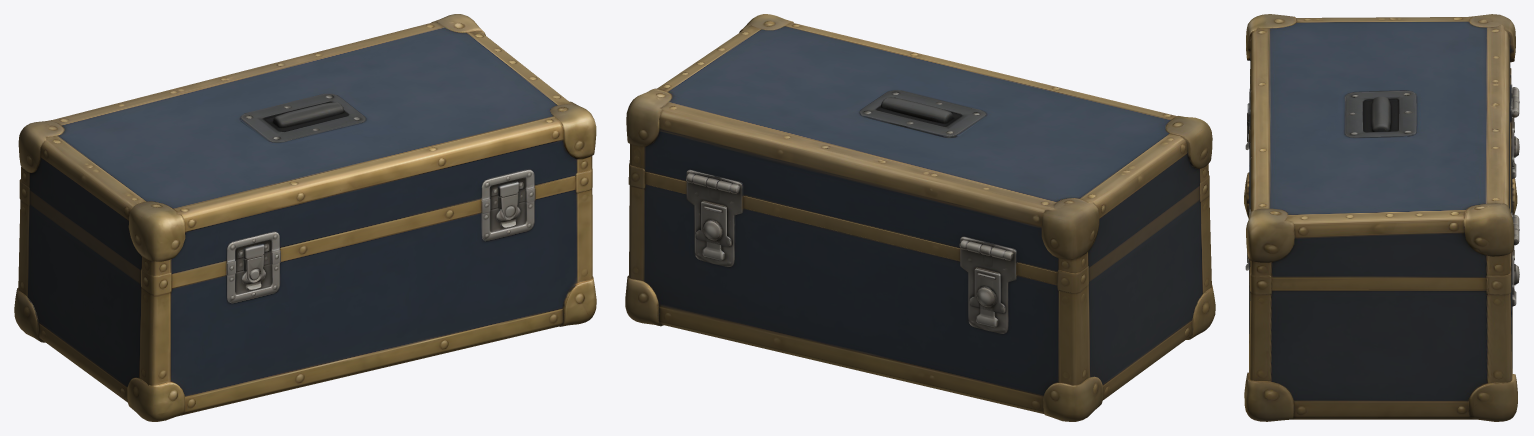
The model's file is flight-case.glb.
The picture shows the model from 3 angles, left to right: view 1: azimuth 30°, elevation 25°; view 2: azimuth 150°, elevation 25°; view 3: azimuth 270°, elevation 25°; orthographic projection. The views are drawn at different scales.
Visible parts, largest first — view 1: Backstage_Case; view 2: Backstage_Case; view 3: Backstage_Case.
Boxes of the visible parts, x1=… form: Backstage_Case: x1=14, y1=14, x2=596, y2=421; Backstage_Case: x1=625, y1=14, x2=1215, y2=421; Backstage_Case: x1=1244, y1=14, x2=1519, y2=421.
Bounding box in the file's own units: 1.8 × 0.8292 × 0.9752.
1 material, 1 textured.
